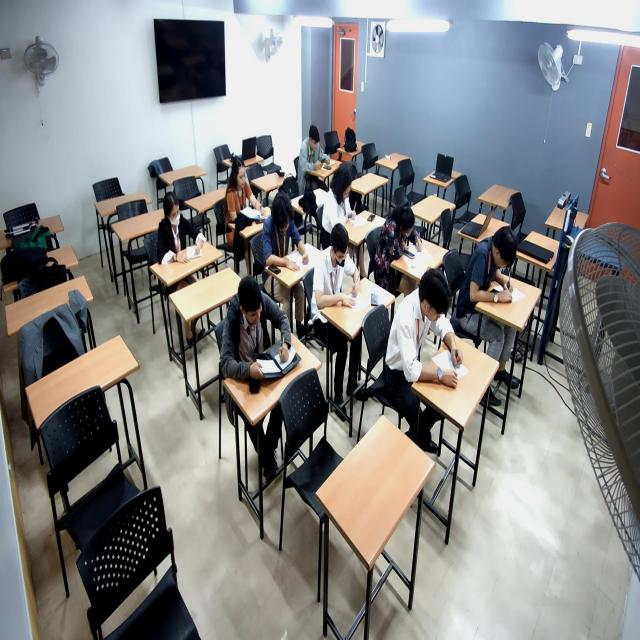read: (398, 278, 472, 397), (226, 290, 298, 391), (314, 230, 370, 322), (155, 200, 213, 277), (261, 202, 314, 286), (219, 155, 272, 230), (473, 229, 519, 315), (376, 206, 430, 273), (323, 177, 368, 242), (303, 130, 340, 178)
